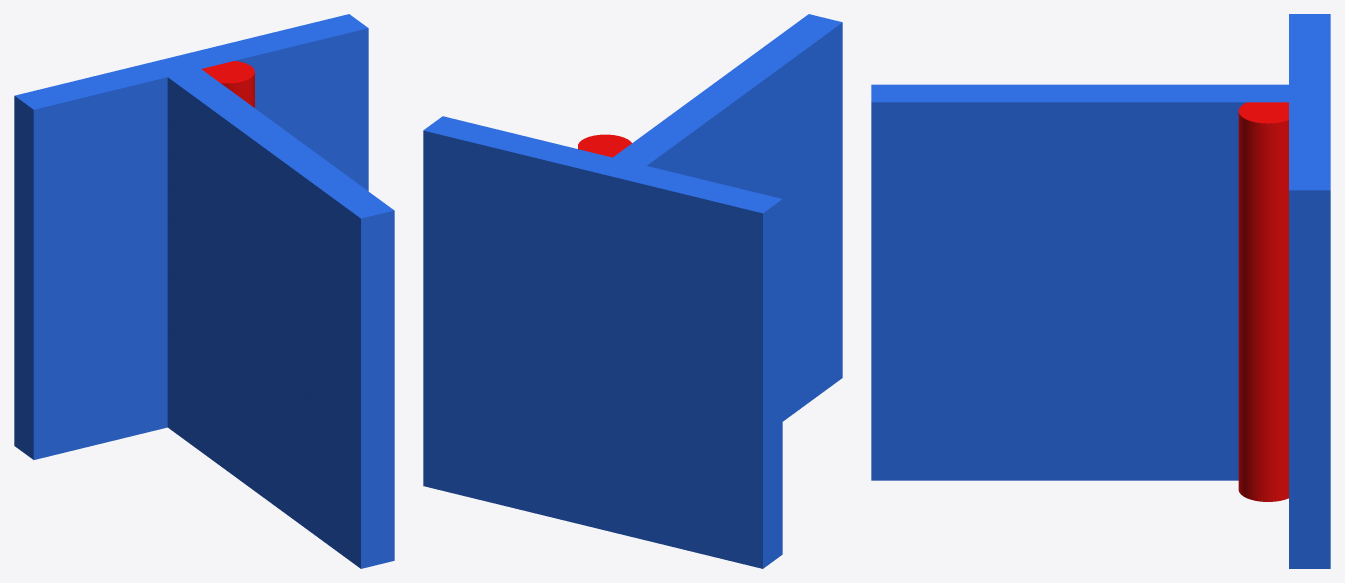
The model's file is Tee Joint v1.fbx.
3 views of the same model, side by side, from view 1: azimuth 30°, elevation 25°; view 2: azimuth 150°, elevation 25°; view 3: azimuth 270°, elevation 25° (orthographic). The views are drawn at different scales.
Visible parts, largest first — view 1: Body3, Body1, Body2; view 2: Body1, Body3, Body2; view 3: Body3, Body1, Body2.
Part boxes in pixels (x1,y1,x2,y2): Body3: [167, 69, 394, 568]; Body1: [14, 14, 368, 459]; Body2: [201, 61, 254, 107]; Body1: [423, 116, 782, 568]; Body3: [613, 14, 842, 421]; Body2: [578, 134, 631, 157]; Body3: [871, 84, 1288, 480]; Body1: [1289, 14, 1330, 568]; Body2: [1238, 102, 1288, 501].
Size of the model in its own units: 254 by 254 by 279.
